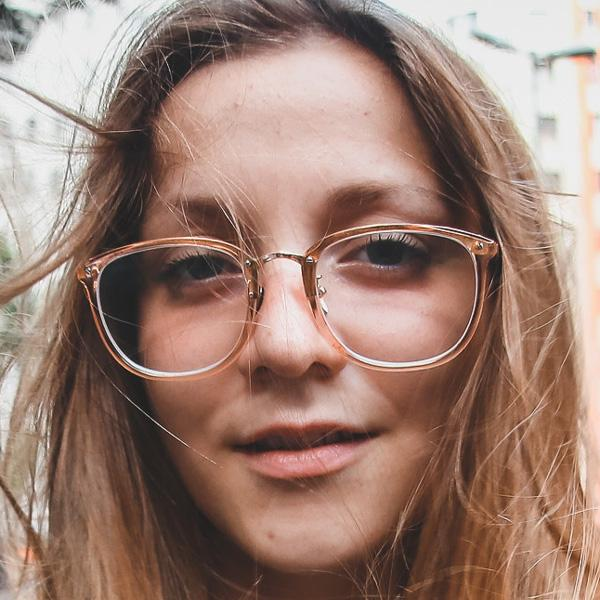Eyes: (148, 235, 250, 305), (332, 221, 439, 285)
